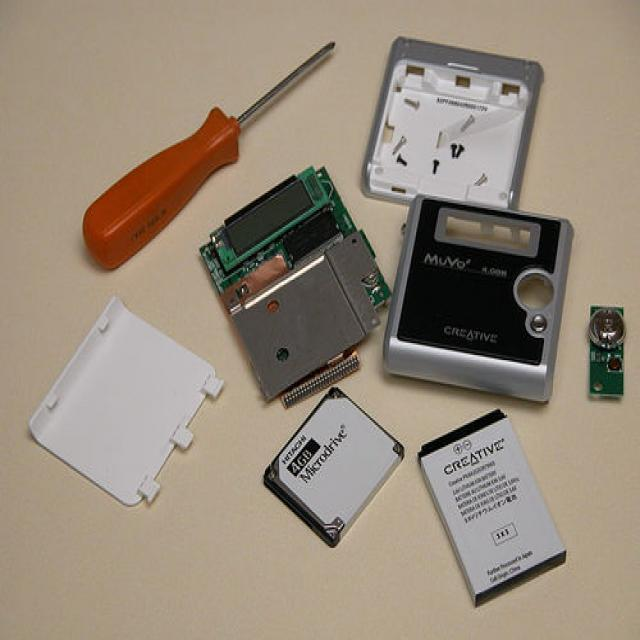screwdriver: (44, 22, 345, 289)
